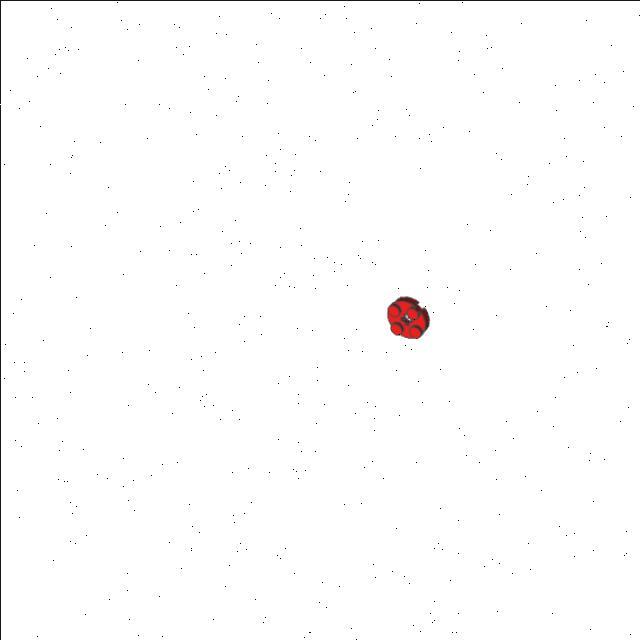4032a: (381, 291, 433, 341)
